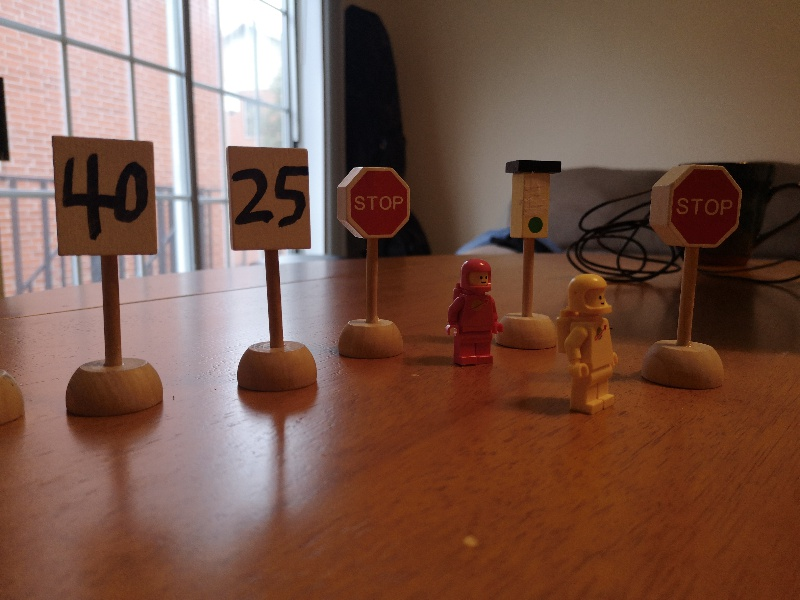Green Traffic Light: (502, 160, 563, 242)
Person: (554, 272, 623, 414), (446, 259, 505, 366)
Speed Limit 25: (225, 146, 313, 251)
Speed Limit 40: (50, 135, 159, 258)
Stop Sign: (647, 165, 742, 250), (337, 167, 412, 239)
